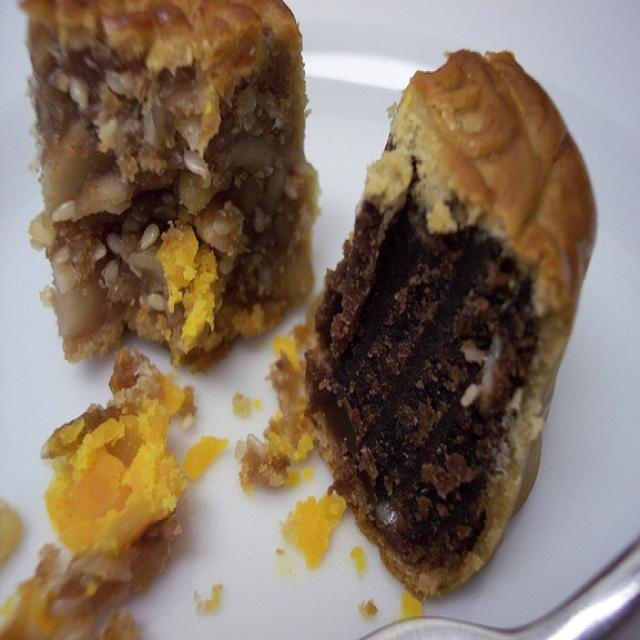蛋糕甜品: (38, 21, 578, 584)
